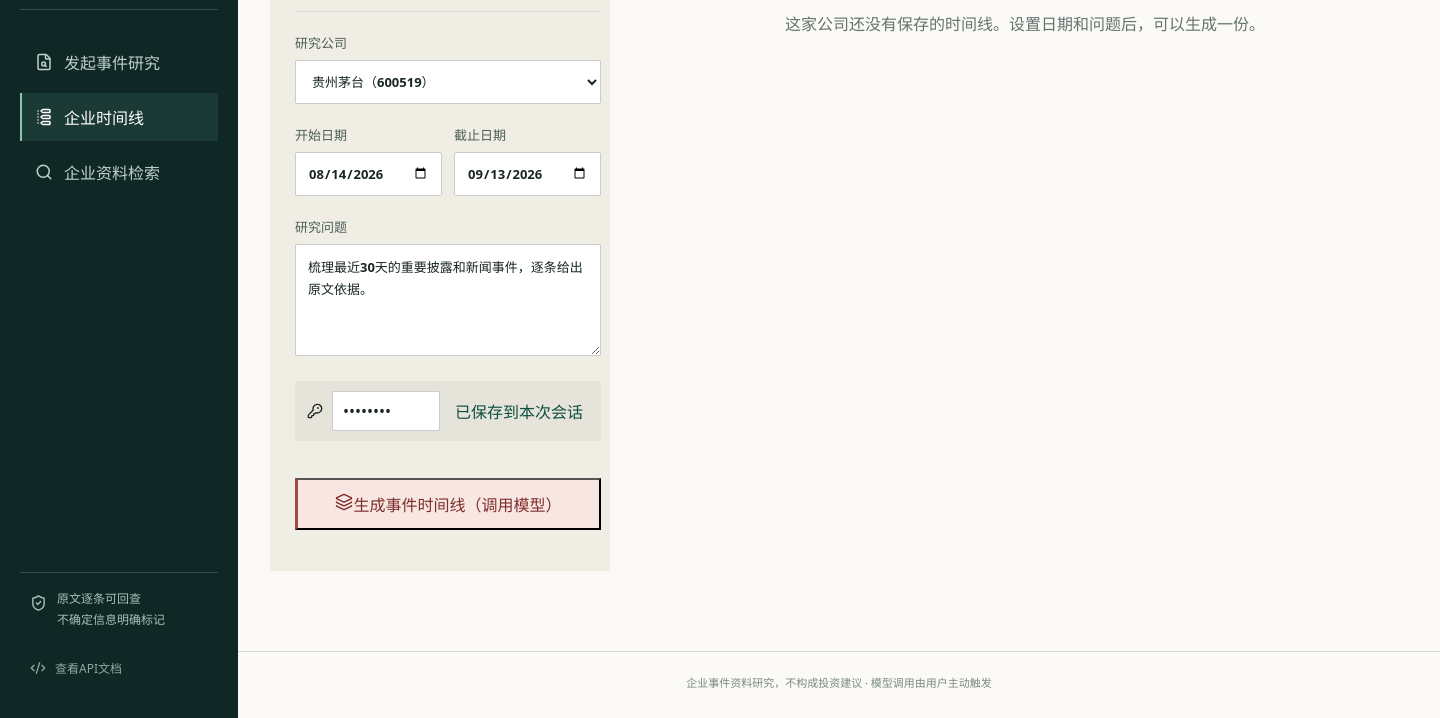
Test: event timeline shows conflicting dates and original quotes after an authenticated build
(page scrolled)
What coordinates should you click on to do the following:
click the button "生成事件时间线（调用模型）"
I would click on:
 (448, 504)
Its box is x1=295 y1=478 x2=601 y2=530.
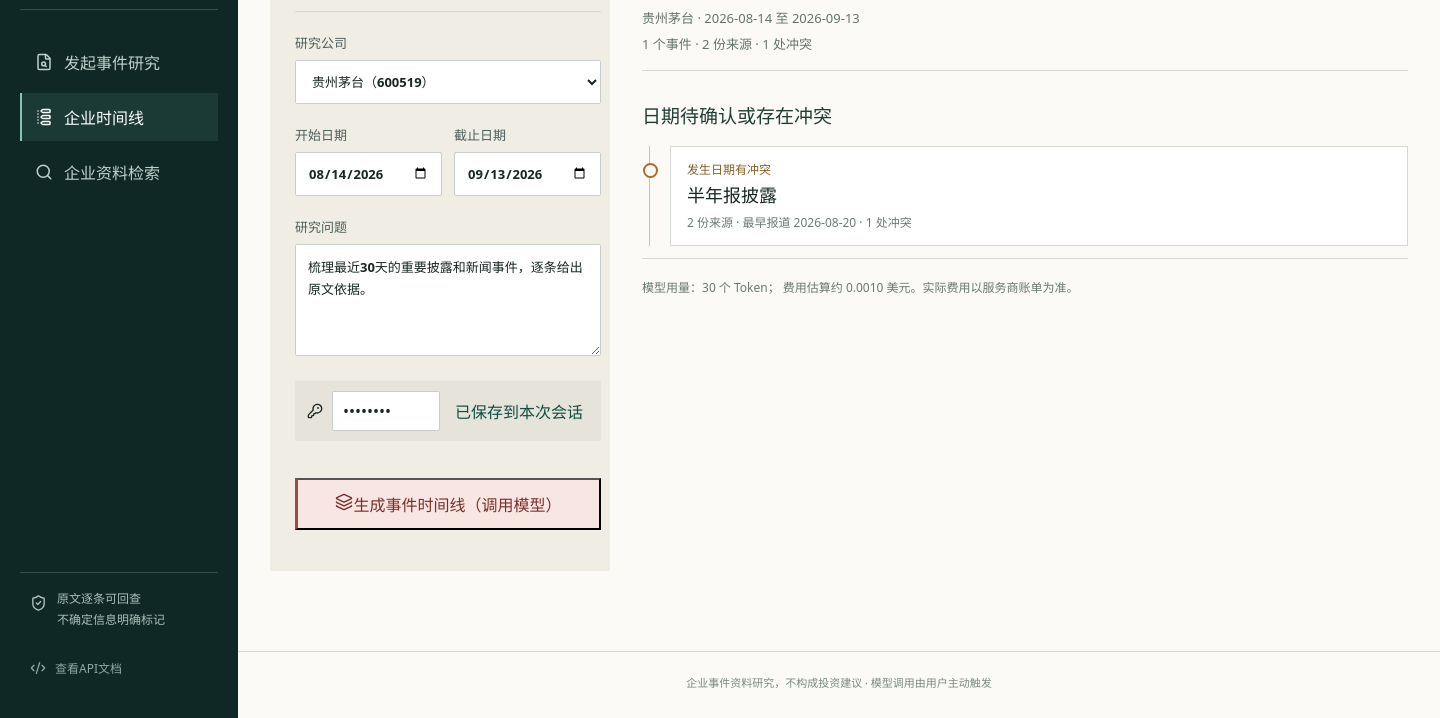
Check: the text "半年报披露" is shown, box x1=687 y1=186 x2=777 y2=206
What coordinates should you click on to do the following:
click the button "发生日期有冲突 半年报披露 2 份来源 · 最早报道 2026-08-20 · 1 处冲突"
I would click on:
 (729, 169)
Its box is x1=670 y1=146 x2=1408 y2=246.
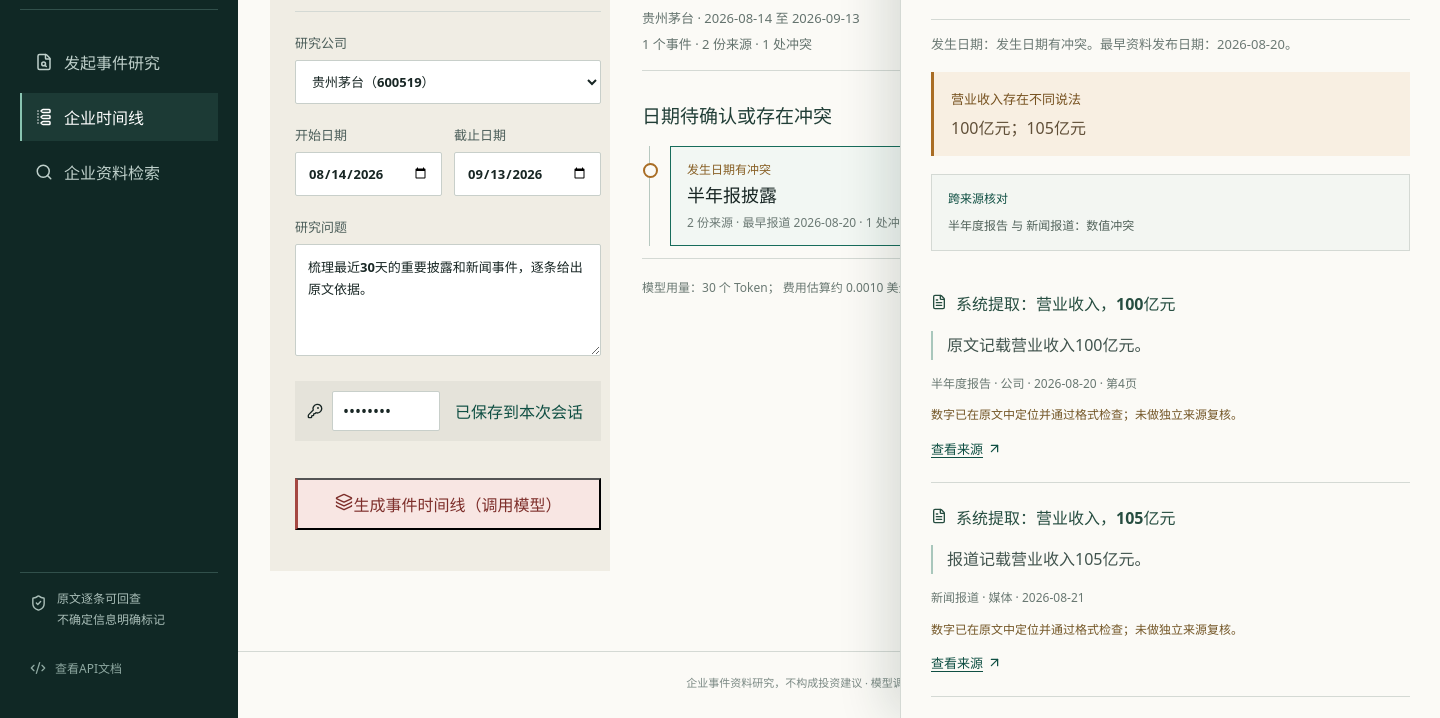
Check: the text "100亿元；105亿元" is shown, box x1=951 y1=117 x2=1086 y2=139
Check: the text "半年度报告 与 新闻报道：数值冲突" is shown, box x1=948 y1=217 x2=1134 y2=234
Check: the text "原文记载营业收入100亿元。" is shown, box x1=931 y1=331 x2=1410 y2=360
